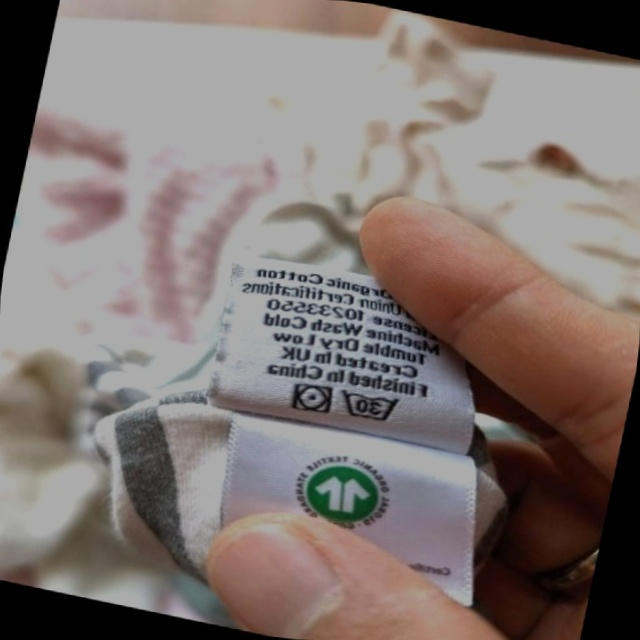30C: (334, 382, 406, 430)
tumble_dry_low: (286, 376, 337, 421)
